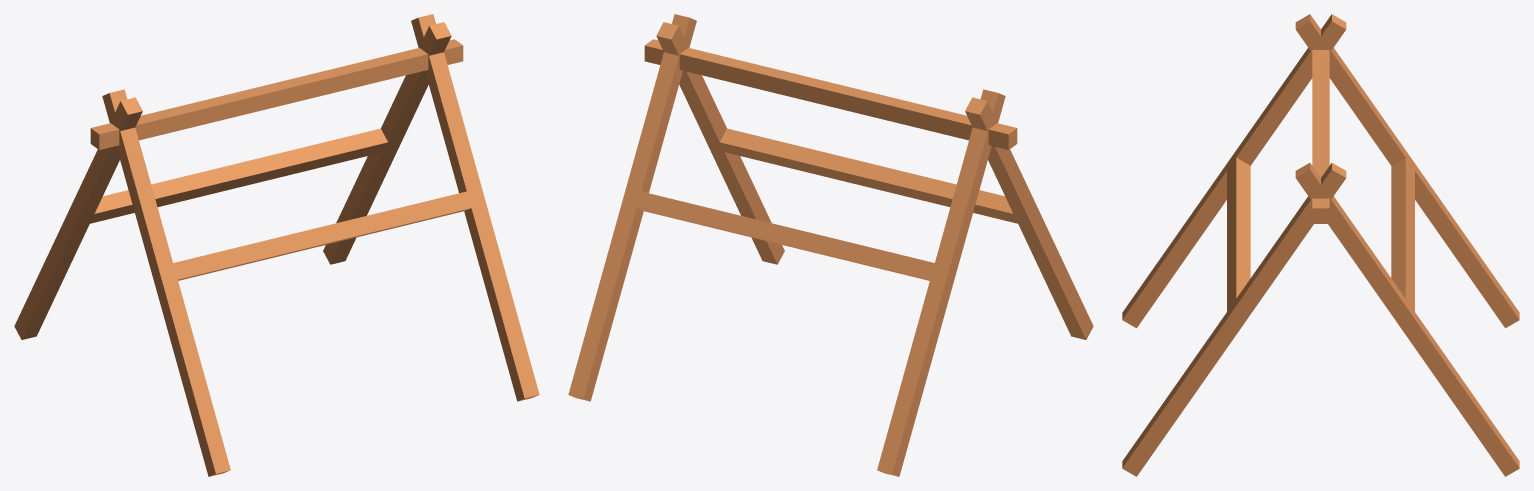
Rendered from tent.obj.
The picture shows the model from 3 angles, left to right: view 1: azimuth 30°, elevation 25°; view 2: azimuth 150°, elevation 25°; view 3: azimuth 270°, elevation 25°; orthographic projection.
Parts seen in each view (by area): view 1: tent; view 2: tent; view 3: tent.
Boxes of the visible parts, bbox=[...] form: tent: bbox=[14, 14, 539, 476]; tent: bbox=[568, 14, 1093, 476]; tent: bbox=[1122, 14, 1519, 476].
Size of the model in its own units: 2.25 by 1.84 by 2.16.
